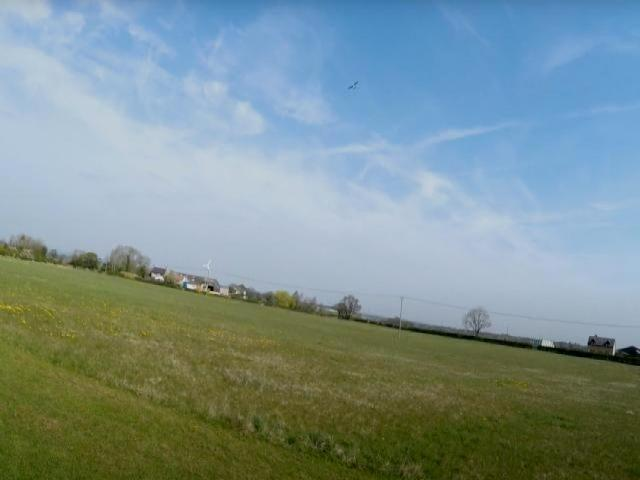iha: (348, 82, 358, 89)
